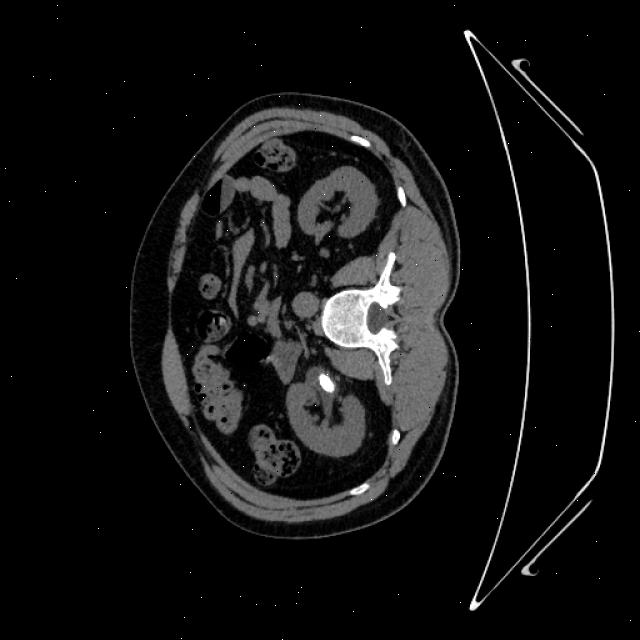kidneystone: (319, 372, 334, 392)
